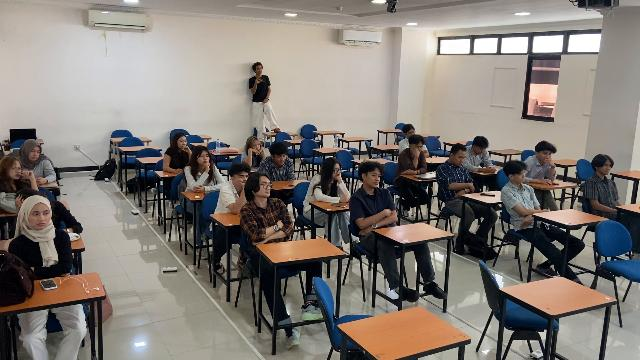bingung: (31, 207, 51, 229), (258, 178, 271, 197), (367, 171, 380, 188), (10, 164, 22, 179), (198, 151, 209, 166), (455, 152, 466, 166), (601, 161, 612, 175), (540, 150, 552, 162), (515, 170, 526, 183), (30, 147, 40, 160), (251, 139, 262, 150), (239, 172, 249, 184), (333, 164, 341, 179), (413, 143, 423, 154), (178, 137, 187, 149), (276, 155, 286, 165)
